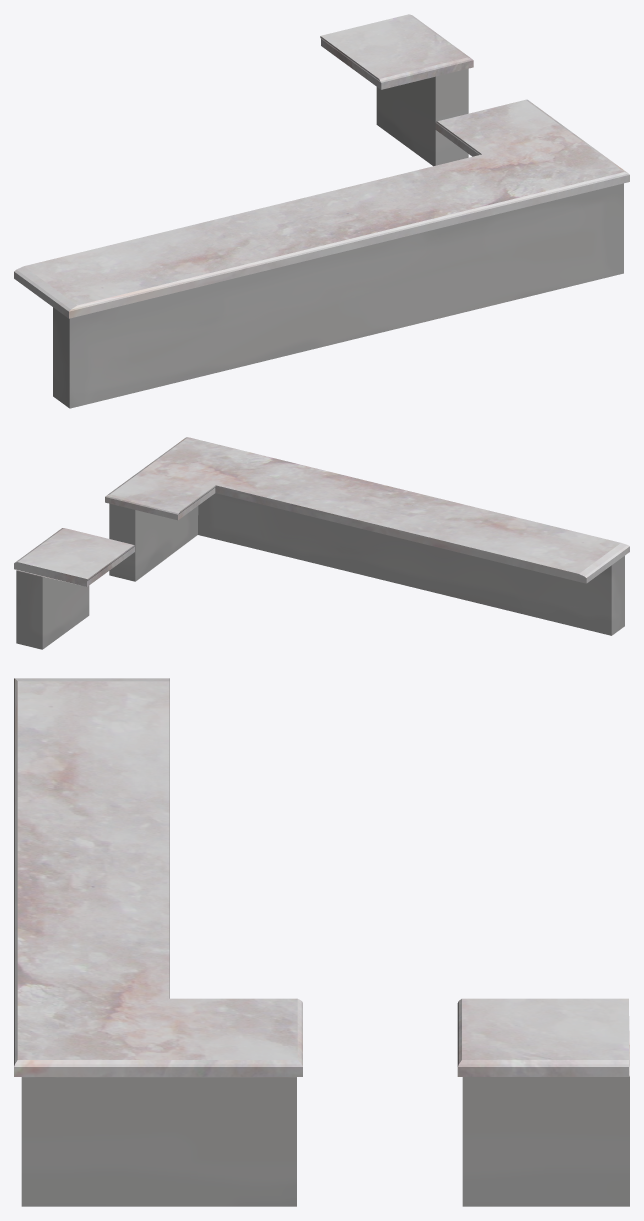
File: counter.fbx
The picture shows the model from 3 angles, top to bottom: view 1: azimuth 30°, elevation 25°; view 2: azimuth 150°, elevation 25°; view 3: azimuth 270°, elevation 25°; orthographic projection. The views are drawn at different scales.
Parts seen in each view (by area): view 1: Cube; view 2: Cube; view 3: Cube.
Part boxes in pixels (x1,y1,x2,y2): Cube: (14,14,629,408); Cube: (14,437,629,649); Cube: (14,678,629,1206).
Bounding box in the file's own units: 1251 × 219 × 839.
